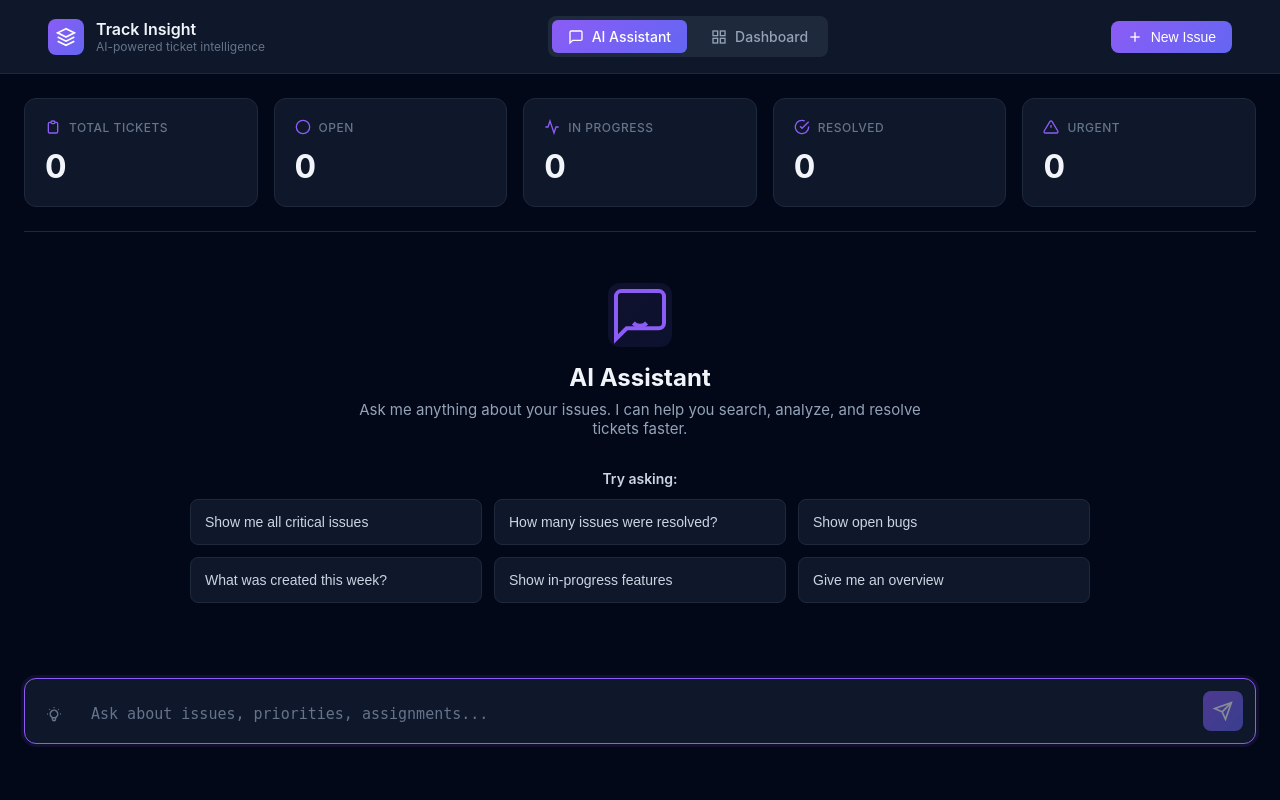
it: AIAssistant.vue › shows typing indicator while waiting for API response
The width and height of the screenshot is (1280, 800).
Type "Show issues" into the text box with placeholder "Ask about issues, priorities, assignments..." at (637, 714), box [83,697,1191,731]
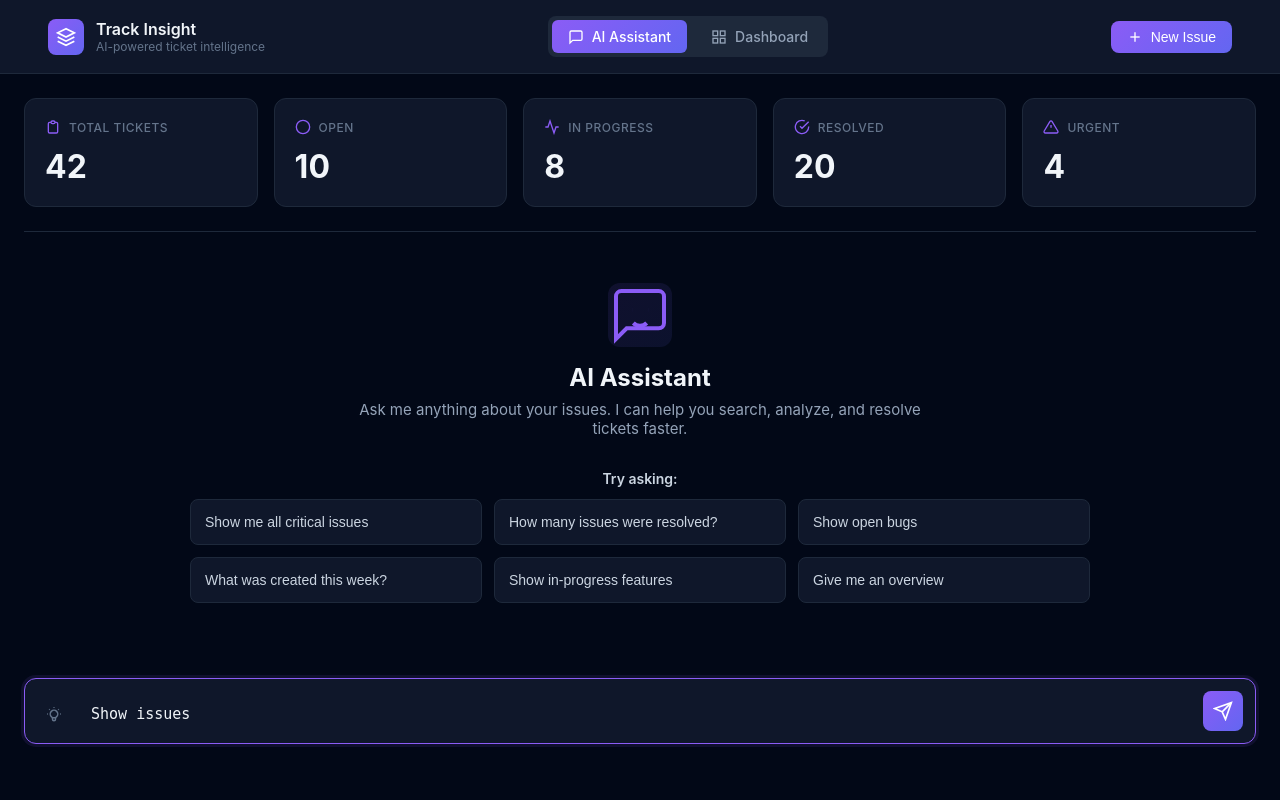
Click the button with class "btn-send" at (1223, 711), box [1203,691,1243,731]
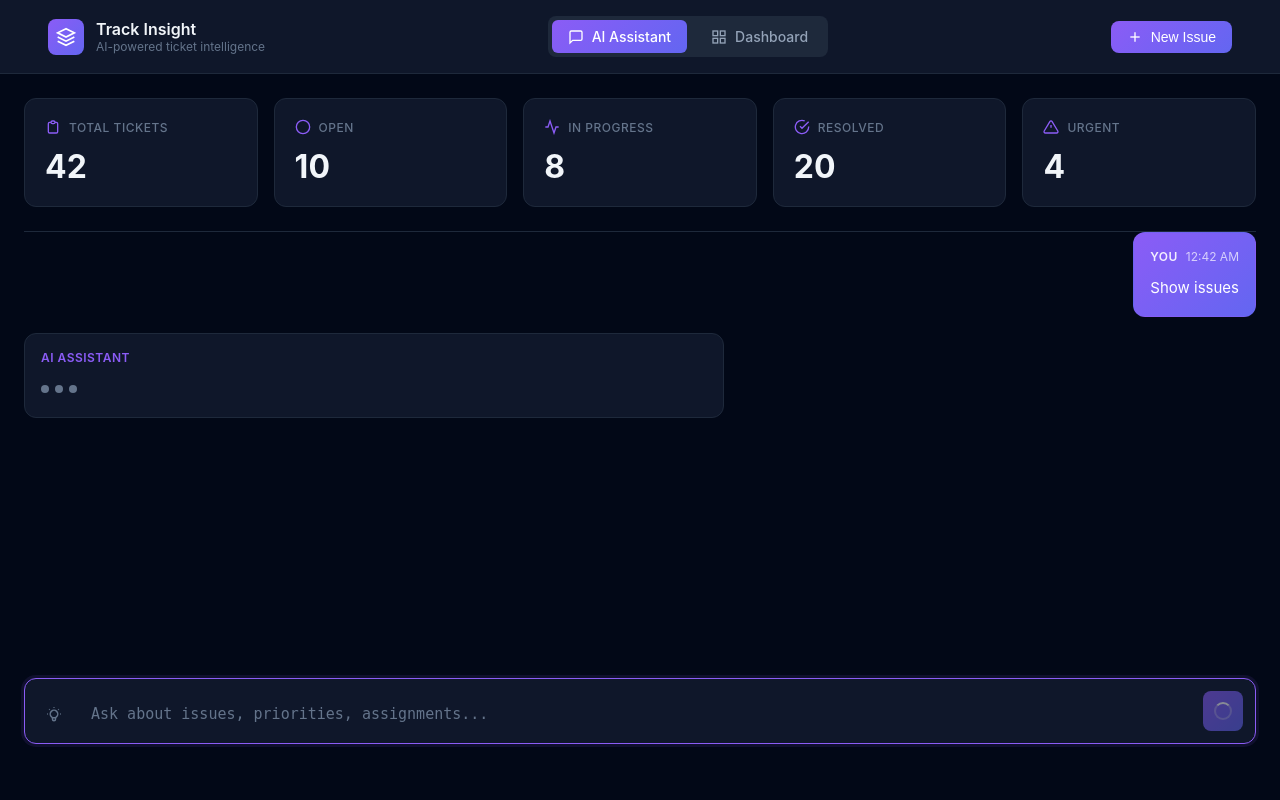
Result: the element with class "typing-dots" is shown at [41,385,77,393]
